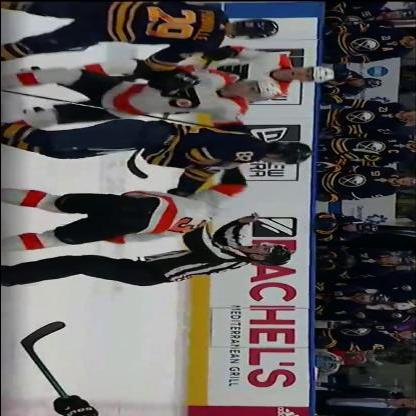non-Voilence: (0, 4, 278, 61)
voilence: (0, 121, 310, 244)
